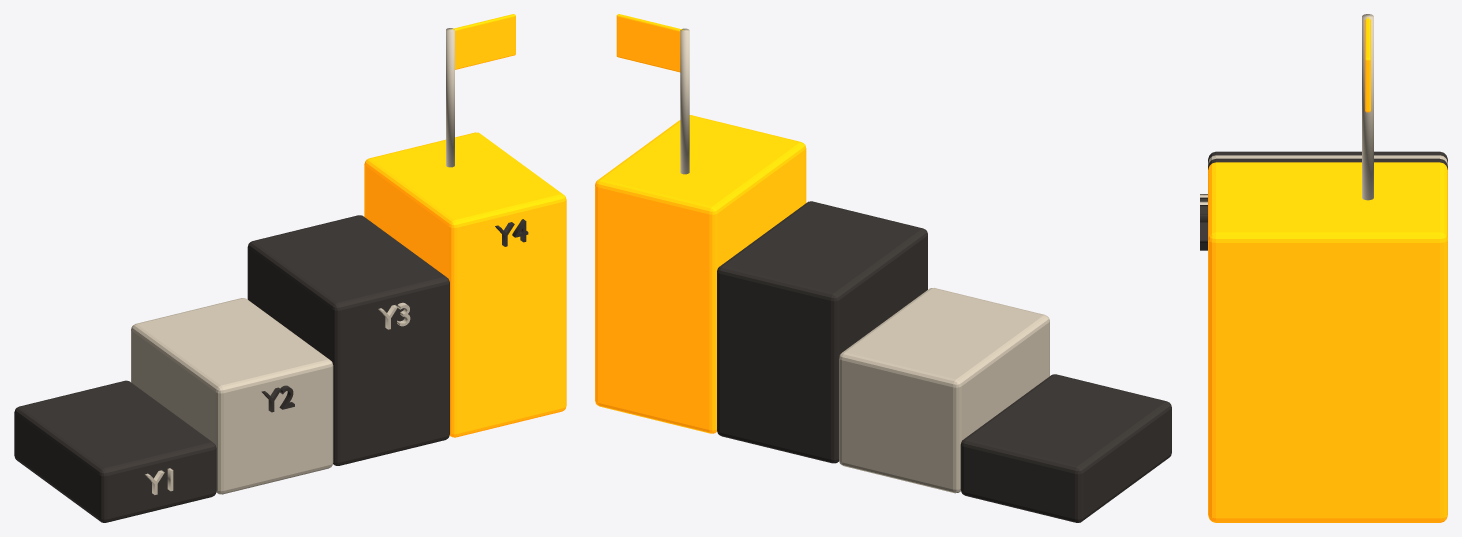
File: stairs.glb
3 views of the same model, side by side, from view 1: azimuth 30°, elevation 25°; view 2: azimuth 150°, elevation 25°; view 3: azimuth 270°, elevation 25° (orthographic). The views are drawn at different scales.
Parts seen in each view (by area): view 1: S3, S2, S1, S0, Flag, Pole; view 2: S3, S2, S1, S0, Flag, Pole; view 3: S3, Pole, S0, S2, S1, Flag, T3.
Part boxes in pixels (left/top/right/bottom): S3: left=364, top=132, right=566, bottom=437; S2: left=247, top=215, right=449, bottom=465; S1: left=131, top=298, right=333, bottom=494; S0: left=14, top=380, right=216, bottom=522; Flag: left=452, top=14, right=515, bottom=69; Pole: left=446, top=28, right=454, bottom=167; S3: left=595, top=115, right=806, bottom=433; S2: left=717, top=201, right=927, bottom=463; S1: left=839, top=288, right=1049, bottom=493; S0: left=960, top=374, right=1171, bottom=522; Flag: left=616, top=14, right=683, bottom=72; Pole: left=680, top=28, right=689, bottom=174; S3: left=1208, top=162, right=1447, bottom=522; Pole: left=1362, top=14, right=1373, bottom=200; S0: left=1208, top=151, right=1447, bottom=162; S2: left=1208, top=158, right=1447, bottom=169; S1: left=1208, top=155, right=1447, bottom=165; Flag: left=1365, top=17, right=1370, bottom=112; T3: left=1200, top=205, right=1207, bottom=250.
Bounding box in the file's own units: 3.65 × 2.6 × 1.24.
